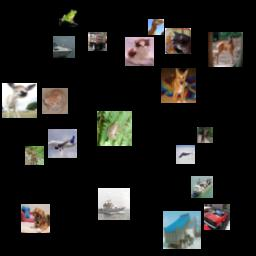airplane: (48, 129, 77, 158), (176, 145, 195, 164)
automobile: (204, 204, 230, 230)
cat: (125, 37, 154, 66), (42, 88, 68, 114), (165, 28, 191, 54), (25, 146, 44, 165)
deer: (2, 83, 37, 118), (208, 32, 243, 67), (197, 127, 213, 143)
dog: (161, 68, 196, 103), (21, 204, 50, 233)
frog: (97, 111, 132, 146), (59, 8, 78, 27)
ship: (98, 188, 130, 220), (53, 36, 75, 58), (191, 176, 213, 198)
truck: (163, 211, 201, 249), (88, 32, 107, 51)
